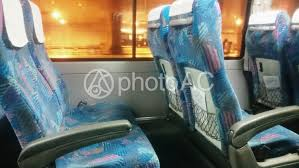seat: (2, 8, 157, 163)
